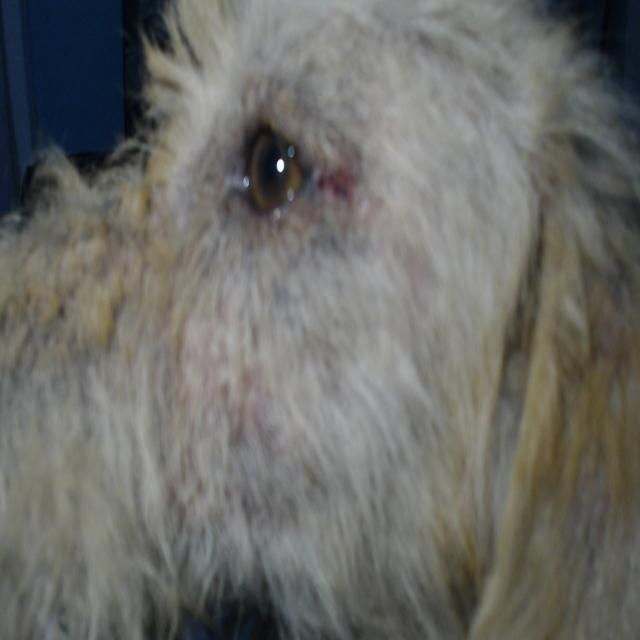demodicosis: (179, 307, 266, 423), (319, 151, 361, 206)
